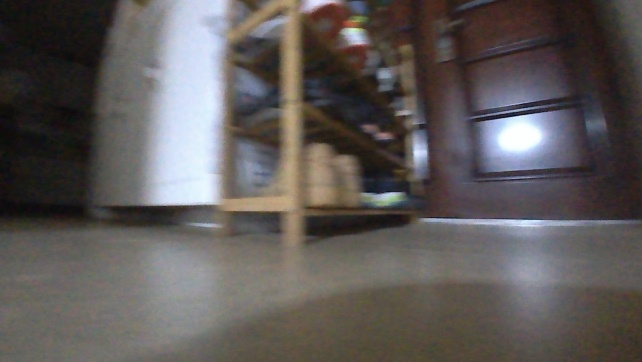door_anno: (410, 0, 641, 223)
